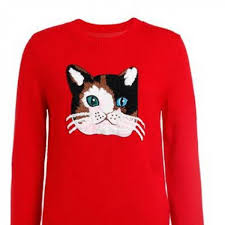cat: (60, 61, 155, 142)
